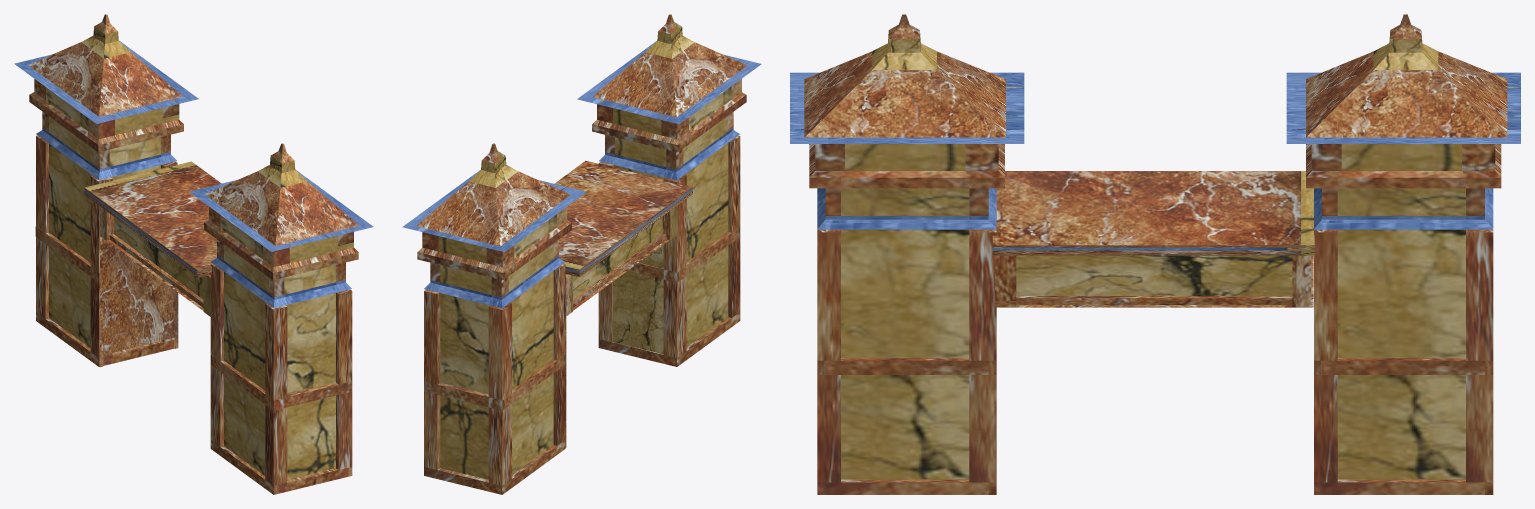
Rendered from Yamato_wall_entrance.fbx.
3 views of the same model, side by side, from view 1: azimuth 30°, elevation 25°; view 2: azimuth 150°, elevation 25°; view 3: azimuth 270°, elevation 25° (orthographic). The views are drawn at different scales.
Parts seen in each view (by area): view 1: Cube, Cube.002, Cube.004, Cube.005, Cube.003, Cube.001; view 2: Cube.002, Cube, Cube.005, Cube.004, Cube.001, Cube.003; view 3: Cube.002, Cube, Cube.005, Cube.003, Cube.001, Cube.004, Plane.
Boxes of the visible parts, x1,y1,x2,y2 form: Cube: [189, 169, 373, 494]; Cube.002: [14, 40, 198, 366]; Cube.004: [100, 206, 211, 367]; Cube.005: [84, 161, 221, 277]; Cube.003: [28, 14, 182, 116]; Cube.001: [205, 143, 359, 245]; Cube.002: [402, 169, 586, 494]; Cube: [577, 41, 761, 366]; Cube.005: [554, 161, 692, 277]; Cube.004: [565, 205, 677, 447]; Cube.001: [593, 14, 747, 117]; Cube.003: [416, 143, 570, 246]; Cube.002: [1286, 72, 1520, 494]; Cube: [790, 72, 1024, 494]; Cube.005: [992, 171, 1314, 255]; Cube.003: [1304, 14, 1507, 137]; Cube.001: [803, 14, 1006, 137]; Cube.004: [995, 255, 1311, 307]; Plane: [997, 255, 1313, 307].
Bounding box in the file's own units: 300 × 854 × 1248.
5 materials, 5 textured.
